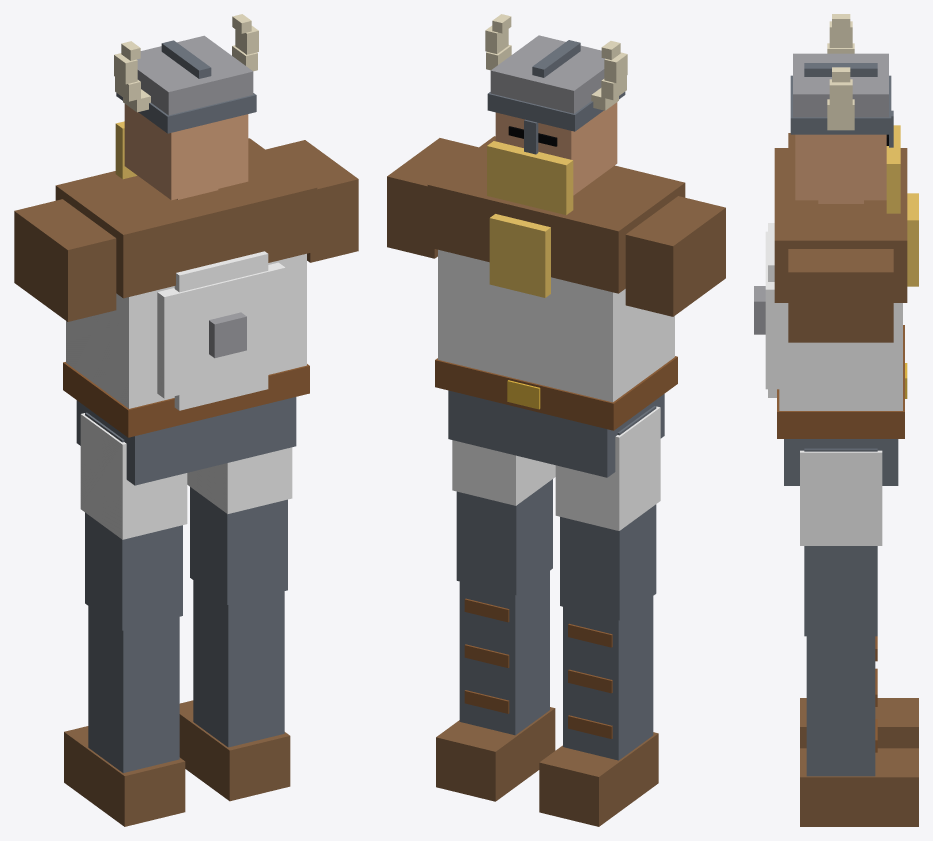
File: VIKING.gltf
3 views of the same model, side by side, from view 1: azimuth 30°, elevation 25°; view 2: azimuth 150°, elevation 25°; view 3: azimuth 270°, elevation 25° (orthographic).
Visible parts, largest first — view 1: VIKING; view 2: VIKING; view 3: VIKING.
Part boxes in pixels (x1,y1,x2,y2): VIKING: (14,14,358,826); VIKING: (387,14,725,826); VIKING: (754,14,918,826).
Size of the model in its own units: 0.72 by 1.79 by 0.36.
